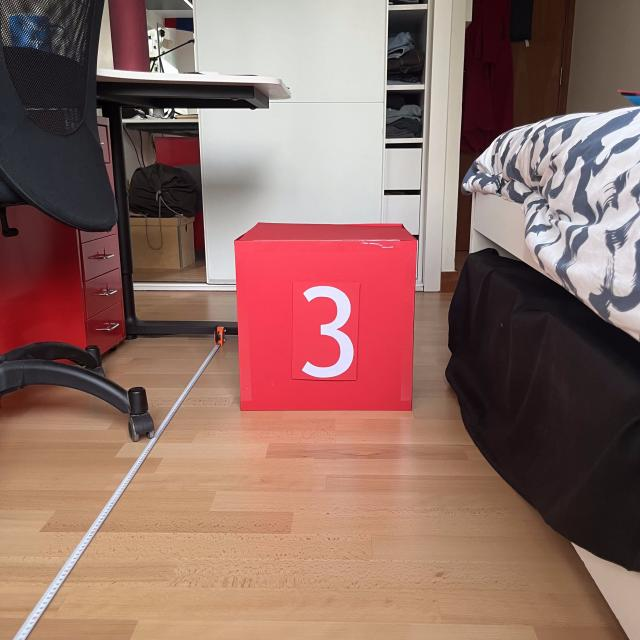box: (230, 217, 420, 414)
